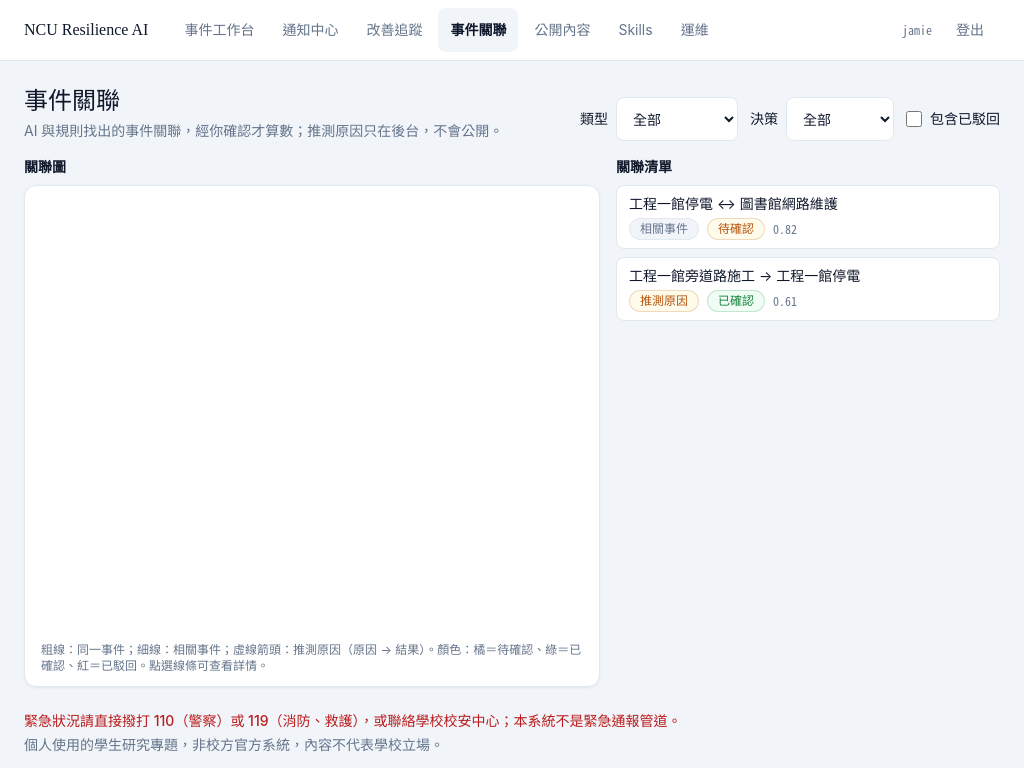
Test case: RelationGraph › 選擇關聯後顯示詳情：證據、方法、決策紀錄，連到兩端事件
Click the button "工程一館旁道路施工 → 工程一館停電 推測原因 已確認 0.61" at (745, 276), box 616,257 -> 1000,321
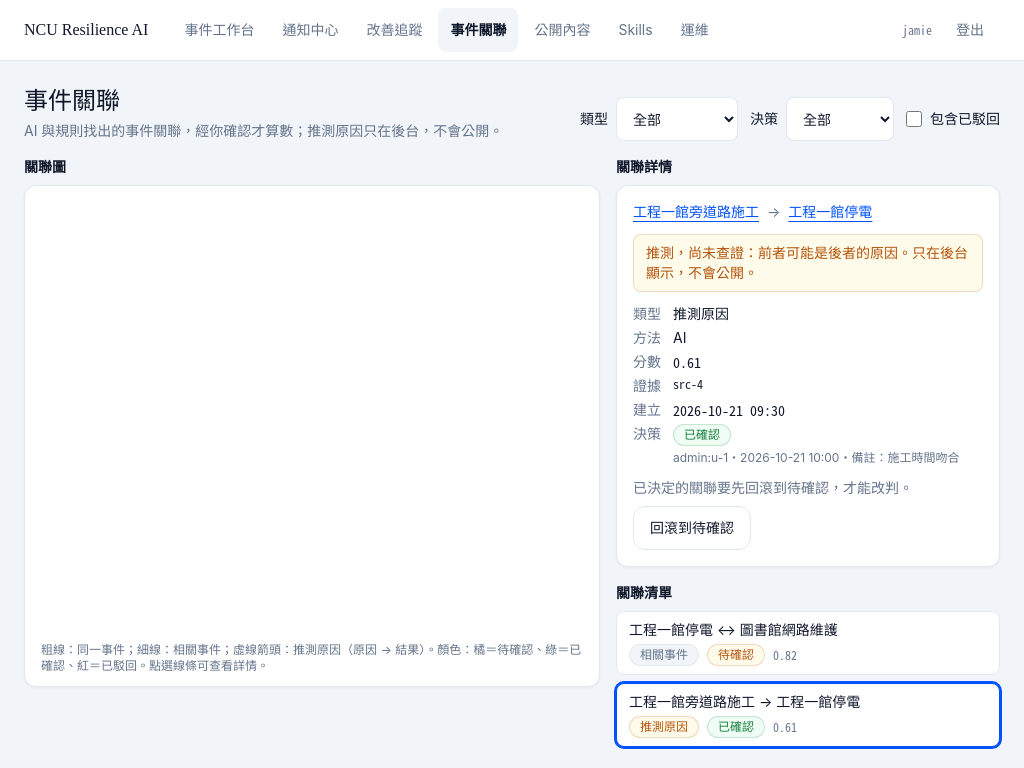
Now the text "推測，尚未查證：前者可能是後者的原因。只在後台顯示，不會公開。" is shown, box 633,234 -> 983,292
Now the list item "src-4" is shown, box 673,376 -> 703,392
Now the text "AI" is shown, box 673,329 -> 686,346
